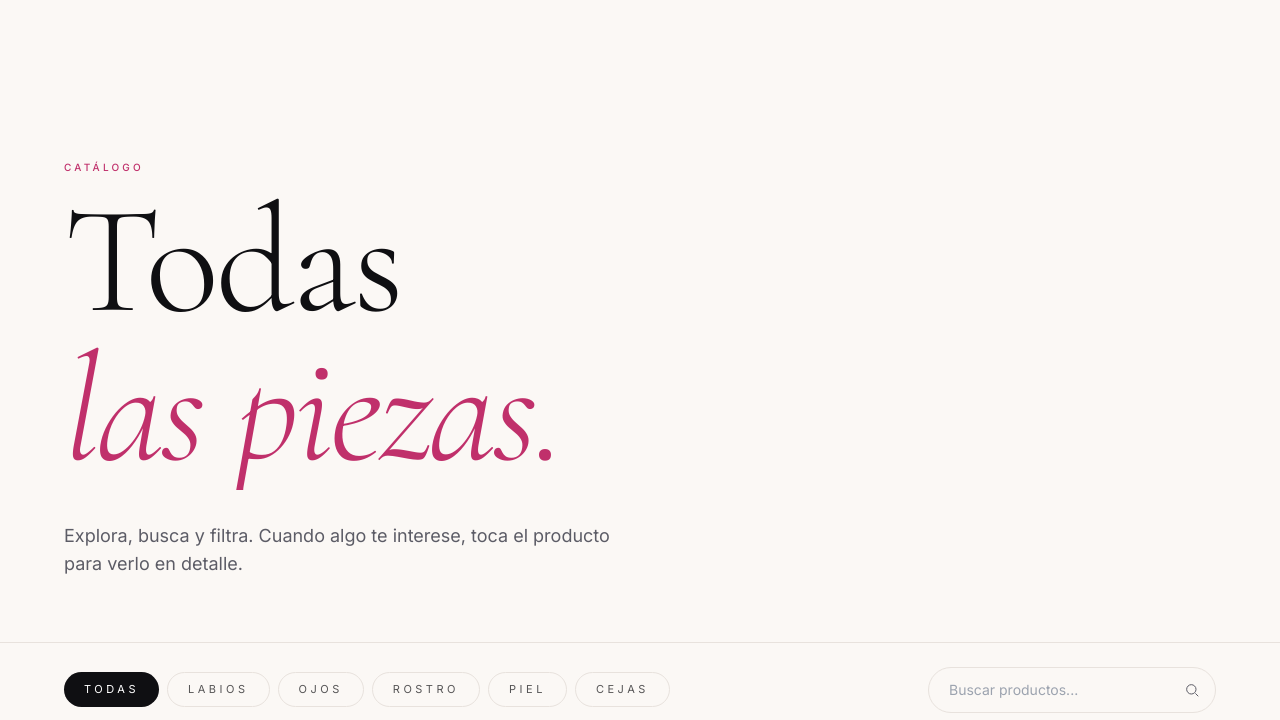
it: CatalogView › muestra estado vacío cuando no hay resultados
Type "zzzzzzzz" into the search field with test id "search-input" at (1072, 690), box [928,667,1216,713]
(page scrolled)
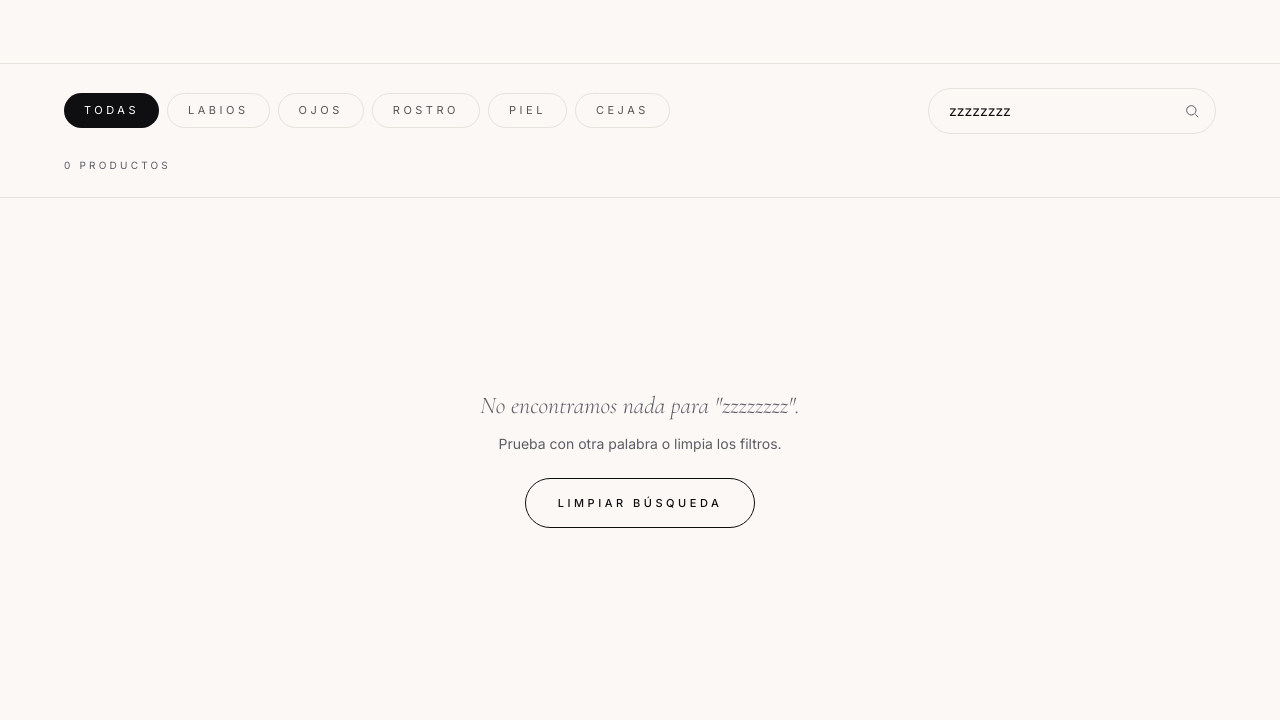
Check: the element with test id "empty-state" is shown, box [480,391,800,528]
